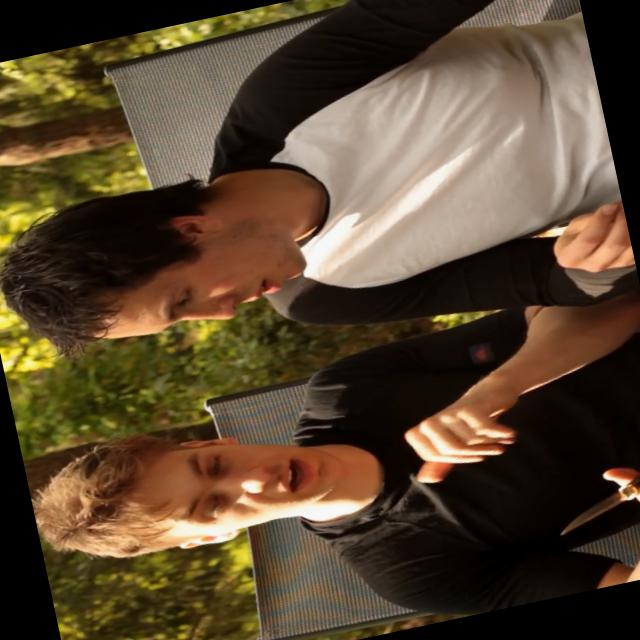knife: (534, 444, 639, 543)
